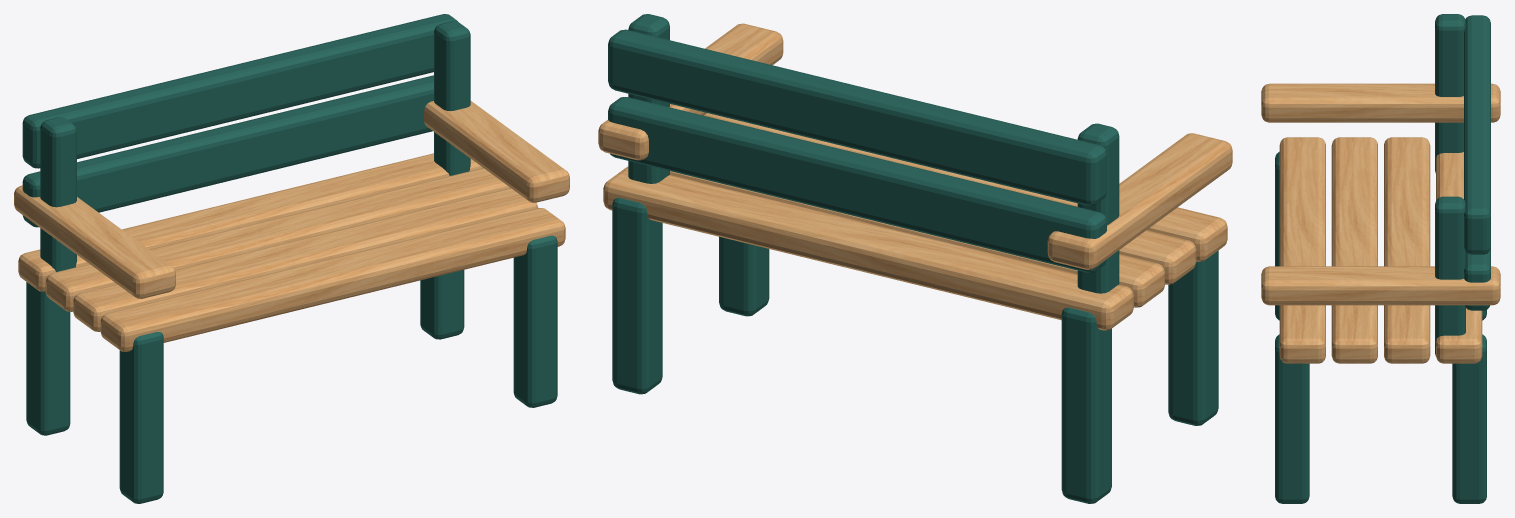
File: bench.glb
The picture shows the model from 3 angles, left to right: view 1: azimuth 30°, elevation 25°; view 2: azimuth 150°, elevation 25°; view 3: azimuth 270°, elevation 25°; orthographic projection. The views are drawn at different scales.
Parts seen in each view (by area): view 1: Back slat, Back slat.001, Seat slat, Seat slat.001, Seat slat.002, Seat slat.003, Bench leg.001, Bench leg.003, Bench arm.001, Bench arm, Bench leg.002, Arm support.001 (+2 smaller); view 2: Back slat, Back slat.001, Seat slat.003, Bench leg.002, Bench leg, Bench arm.001, Bench leg.001, Seat slat, Bench arm, Seat slat.002, Bench leg.003, Arm support.001 (+2 smaller); view 3: Seat slat, Seat slat.001, Seat slat.002, Bench arm, Bench arm.001, Back slat, Bench leg.003, Bench leg, Arm support, Arm support.001, Seat slat.003, Back slat.001 (+1 smaller).
Boxes of the visible parts, x1=… form: Back slat: x1=22, y1=14, x2=457, y2=168; Back slat.001: x1=22, y1=75, x2=433, y2=227; Seat slat: x1=100, y1=208, x2=565, y2=351; Seat slat.001: x1=73, y1=188, x2=538, y2=331; Seat slat.002: x1=45, y1=168, x2=510, y2=311; Seat slat.003: x1=18, y1=153, x2=482, y2=291; Bench leg.001: x1=119, y1=331, x2=163, y2=503; Bench leg.003: x1=513, y1=235, x2=557, y2=407; Bench arm.001: x1=14, y1=185, x2=175, y2=298; Bench arm: x1=424, y1=101, x2=569, y2=202; Bench leg.002: x1=26, y1=282, x2=70, y2=435; Arm support.001: x1=40, y1=117, x2=76, y2=271; Back slat: x1=608, y1=29, x2=1106, y2=205; Back slat.001: x1=608, y1=97, x2=1106, y2=272; Seat slat.003: x1=603, y1=166, x2=1133, y2=330; Bench leg.002: x1=1061, y1=307, x2=1111, y2=503; Bench leg: x1=612, y1=198, x2=662, y2=394; Bench arm.001: x1=1047, y1=133, x2=1232, y2=269; Bench leg.001: x1=1168, y1=250, x2=1218, y2=425; Seat slat: x1=704, y1=113, x2=1227, y2=261; Bench arm: x1=598, y1=23, x2=783, y2=160; Seat slat.002: x1=670, y1=171, x2=1164, y2=307; Bench leg.003: x1=719, y1=236, x2=769, y2=316; Arm support.001: x1=1077, y1=123, x2=1119, y2=293; Seat slat: x1=1279, y1=137, x2=1325, y2=363; Seat slat.001: x1=1331, y1=137, x2=1377, y2=363; Seat slat.002: x1=1384, y1=137, x2=1430, y2=363; Bench arm: x1=1261, y1=266, x2=1500, y2=305; Bench arm.001: x1=1261, y1=83, x2=1500, y2=122; Back slat: x1=1464, y1=15, x2=1490, y2=254; Bench leg.003: x1=1275, y1=334, x2=1309, y2=503; Bench leg: x1=1452, y1=334, x2=1486, y2=503; Arm support: x1=1435, y1=196, x2=1465, y2=355; Arm support.001: x1=1435, y1=14, x2=1465, y2=173; Seat slat.003: x1=1436, y1=152, x2=1482, y2=363; Back slat.001: x1=1464, y1=248, x2=1490, y2=310.
Size of the model in its own units: 1.27 by 0.855 by 0.62.
Materials: 2 (1 with a texture image).
